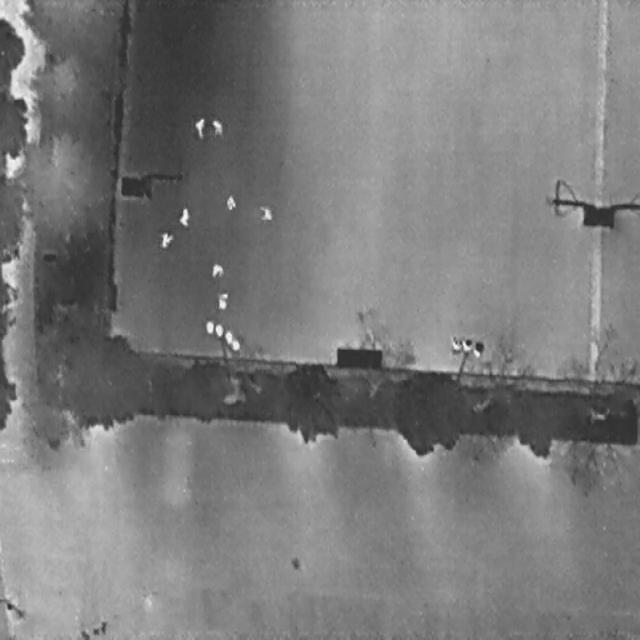Person: (174, 202, 192, 228), (193, 115, 205, 139), (209, 261, 224, 279), (159, 230, 173, 249), (258, 204, 273, 221), (224, 192, 236, 212), (216, 291, 228, 310), (211, 118, 223, 136)
